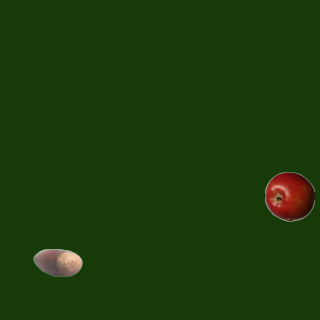Apple Braeburn: (264, 171, 314, 221)
Hazelnut: (32, 237, 82, 287)
